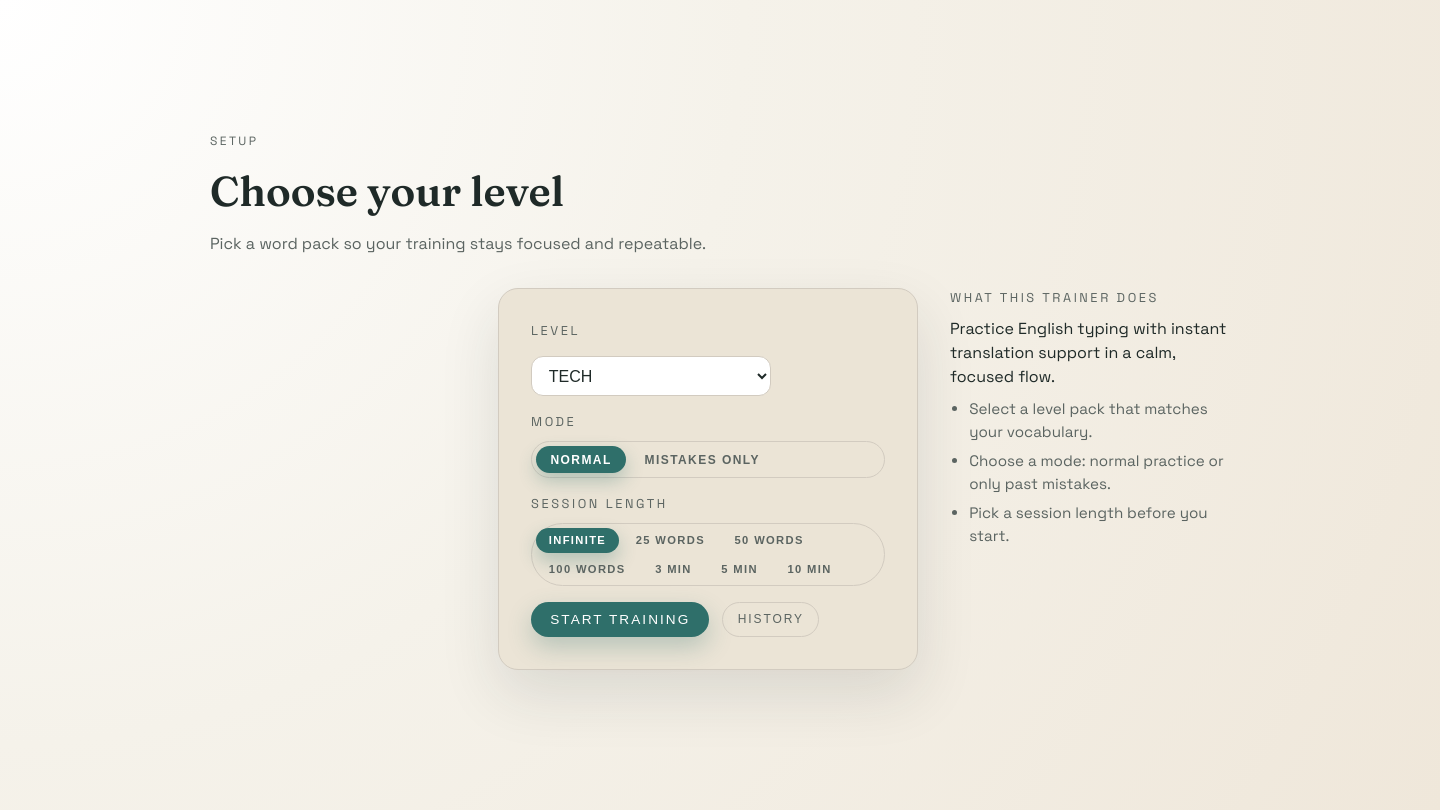
Test: App navigation › starts training with the selected level pack
Select "TECH" in the dropdown labelled "Level" at (651, 376), box 531,356 -> 771,396
Click the button "Start training".
click(620, 619)  # box 531,602 -> 710,636
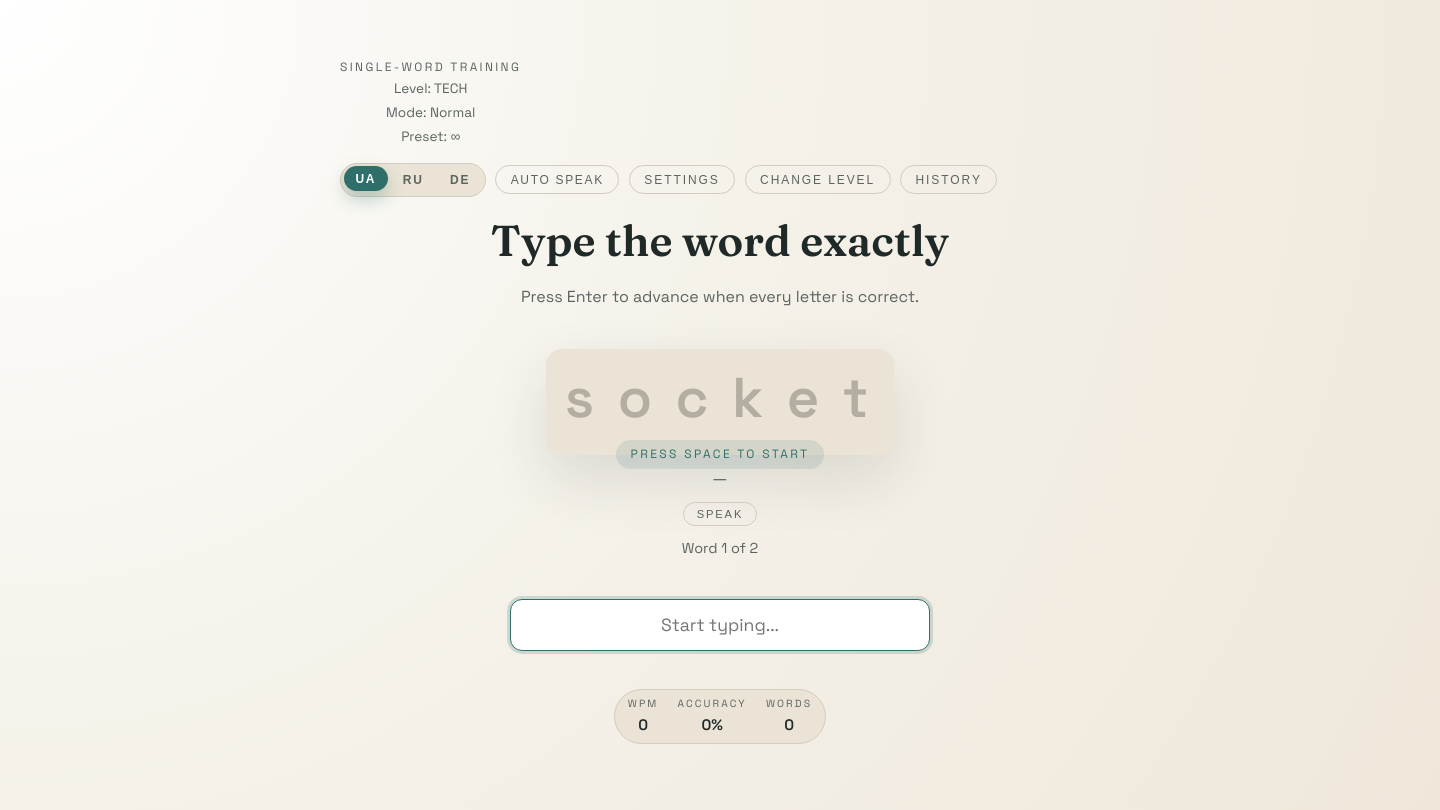
Check: the text "Level: TECH" is shown, box 394,80 -> 467,97
